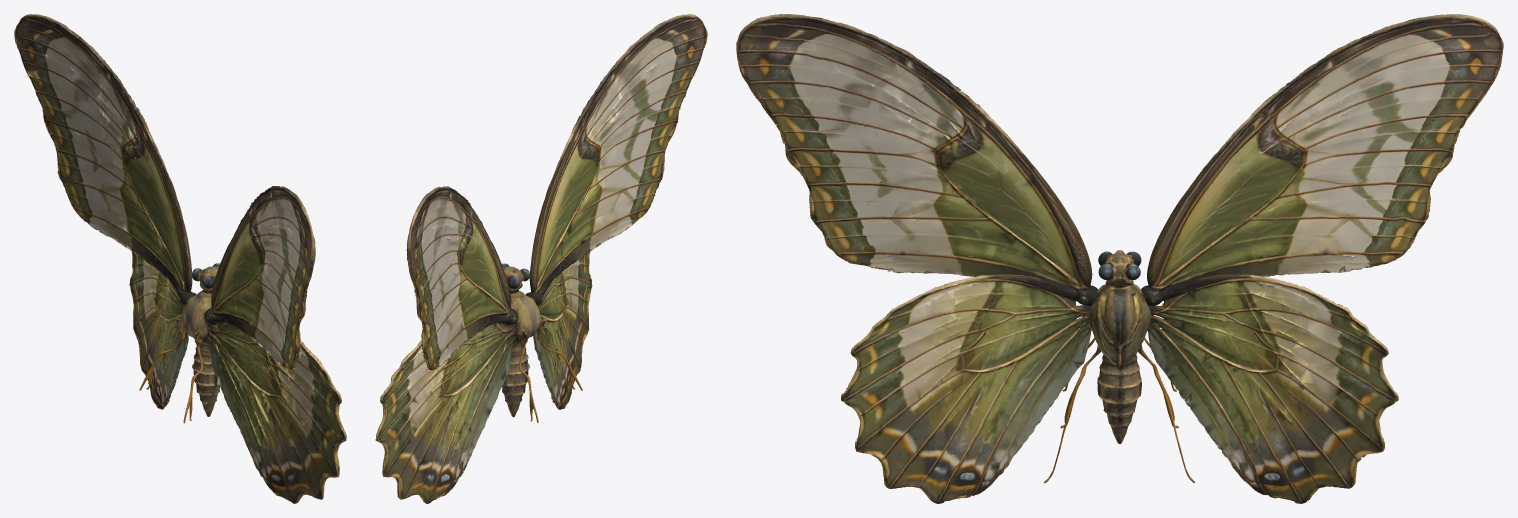
Rendered from 9db67071-26be-4bba-b935-a77587462d37.glb.
3 views of the same model, side by side, from view 1: azimuth 30°, elevation 25°; view 2: azimuth 150°, elevation 25°; view 3: azimuth 270°, elevation 25° (orthographic). The views are drawn at different scales.
Parts seen in each view (by area): view 1: tripo_node_9db67071-26be-4bba-b935-a77587462d37; view 2: tripo_node_9db67071-26be-4bba-b935-a77587462d37; view 3: tripo_node_9db67071-26be-4bba-b935-a77587462d37.
Boxes of the visible parts, box(x1,y1,x2,y2) form: tripo_node_9db67071-26be-4bba-b935-a77587462d37: box(14, 14, 346, 503); tripo_node_9db67071-26be-4bba-b935-a77587462d37: box(375, 14, 707, 503); tripo_node_9db67071-26be-4bba-b935-a77587462d37: box(736, 14, 1503, 503).
Size of the model in its own units: 0.163 by 0.6586 by 0.9989.
Materials: 1 (1 with a texture image).
